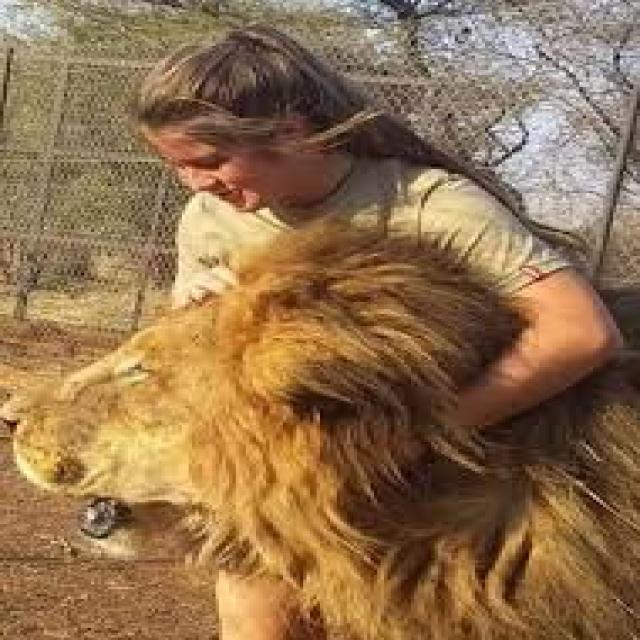Lion: (2, 237, 637, 638)
